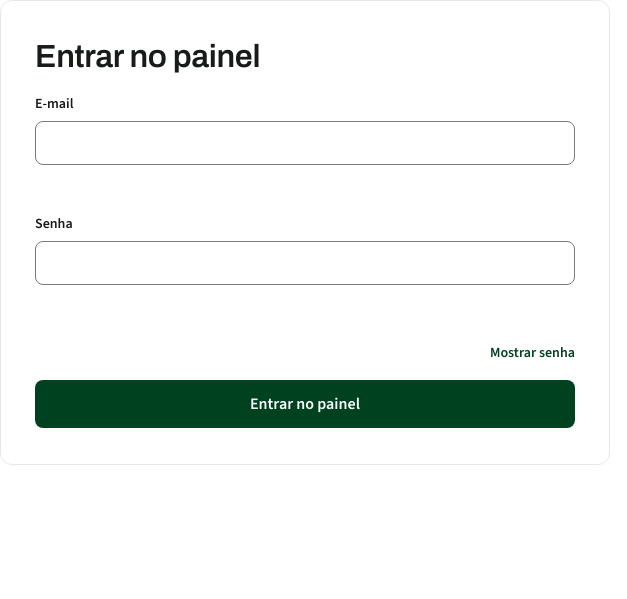
LoginForm administrativo › exibe mensagem segura em falhas de conexao
Type "operador@example.invalid" into the field labelled "E-mail".
click(305, 143); type("operador@example.invalid")  # box left=35, top=121, right=575, bottom=165
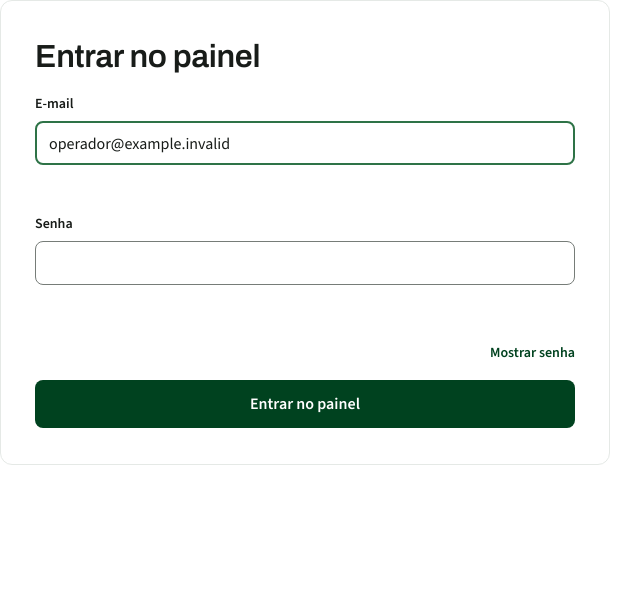
Type "SenhaFicticia123!" into the password field labelled "Senha".
click(305, 263); type("SenhaFicticia123!")  # box left=35, top=241, right=575, bottom=285
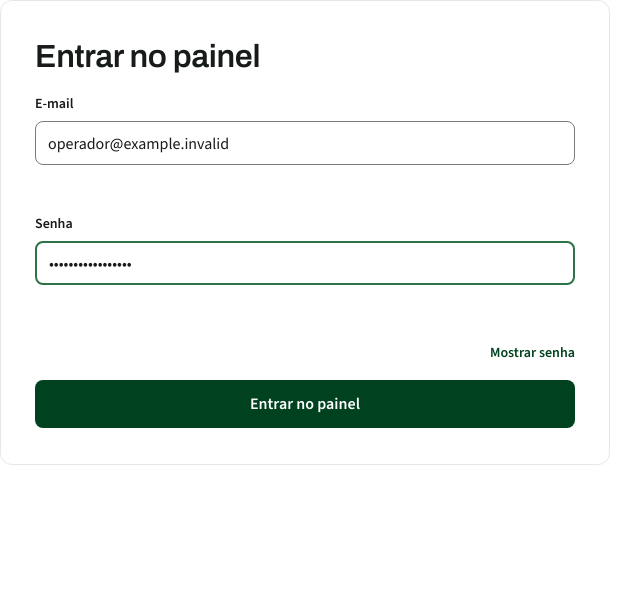
Click the button "Entrar no painel".
click(305, 404)  # box left=35, top=380, right=575, bottom=428
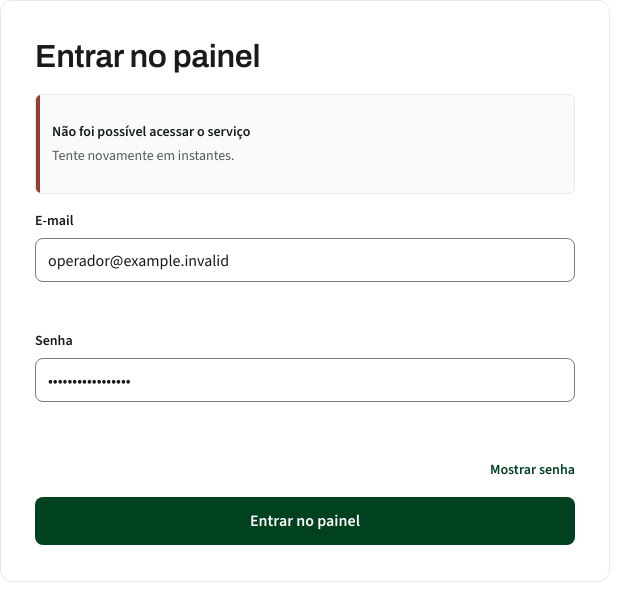
Expected: the text "Não foi possível acessar o serviço" is shown, left=52, top=122, right=250, bottom=141
